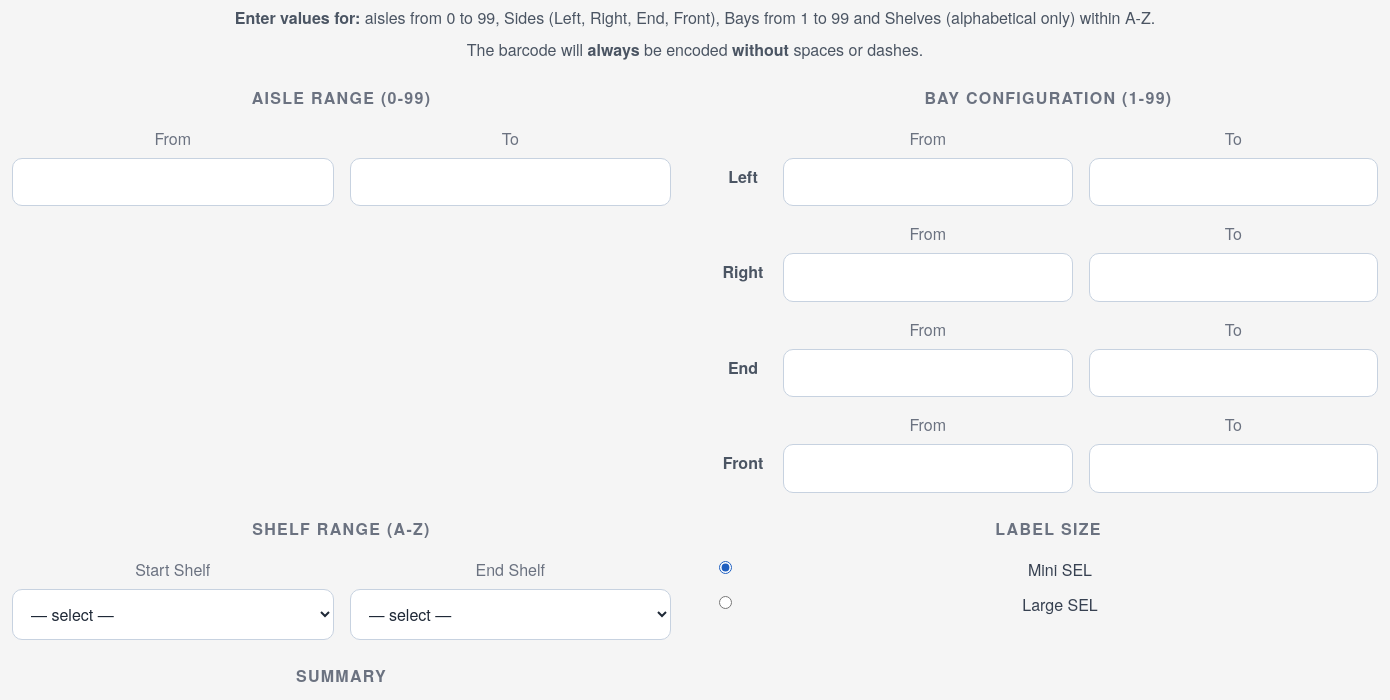
Test: AisleLabelForm › shows select a shelf error when shelf is not selected
The width and height of the screenshot is (1390, 700).
Step 1. Type "1" into the field labelled "From" below "Aisle Range (0-99)" → (173, 182), box left=12, top=158, right=334, bottom=206
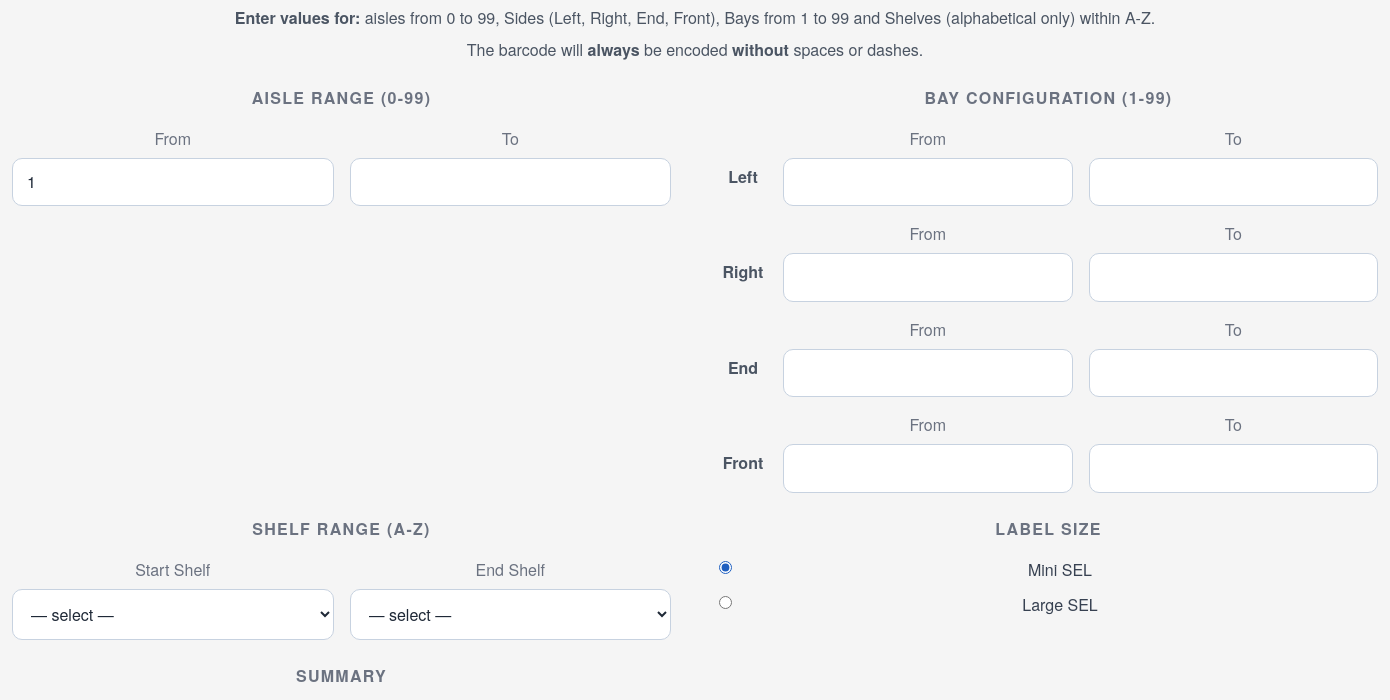
Step 2. Type "1" into the field labelled "To" below "Aisle Range (0-99)" → (510, 182), box left=350, top=158, right=671, bottom=206
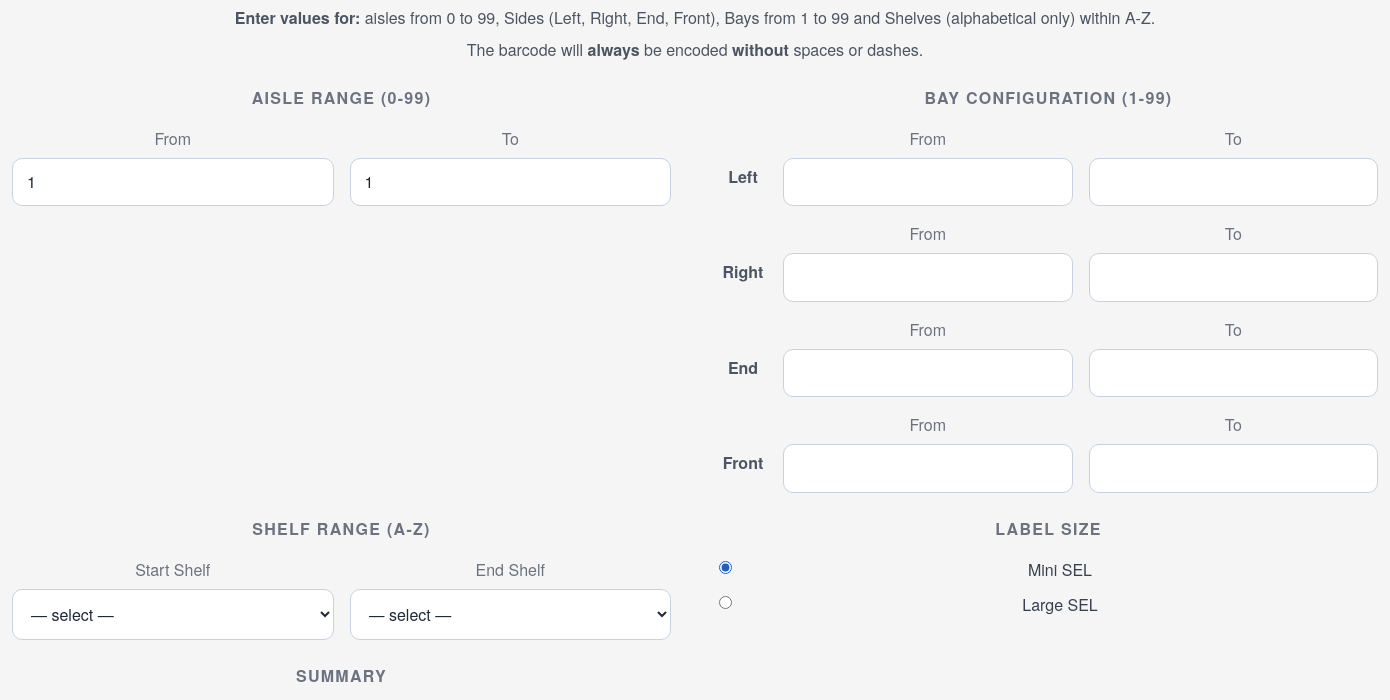
Step 3. Type "1" into the 2nd field labelled "From" → (928, 182), box left=783, top=158, right=1072, bottom=206
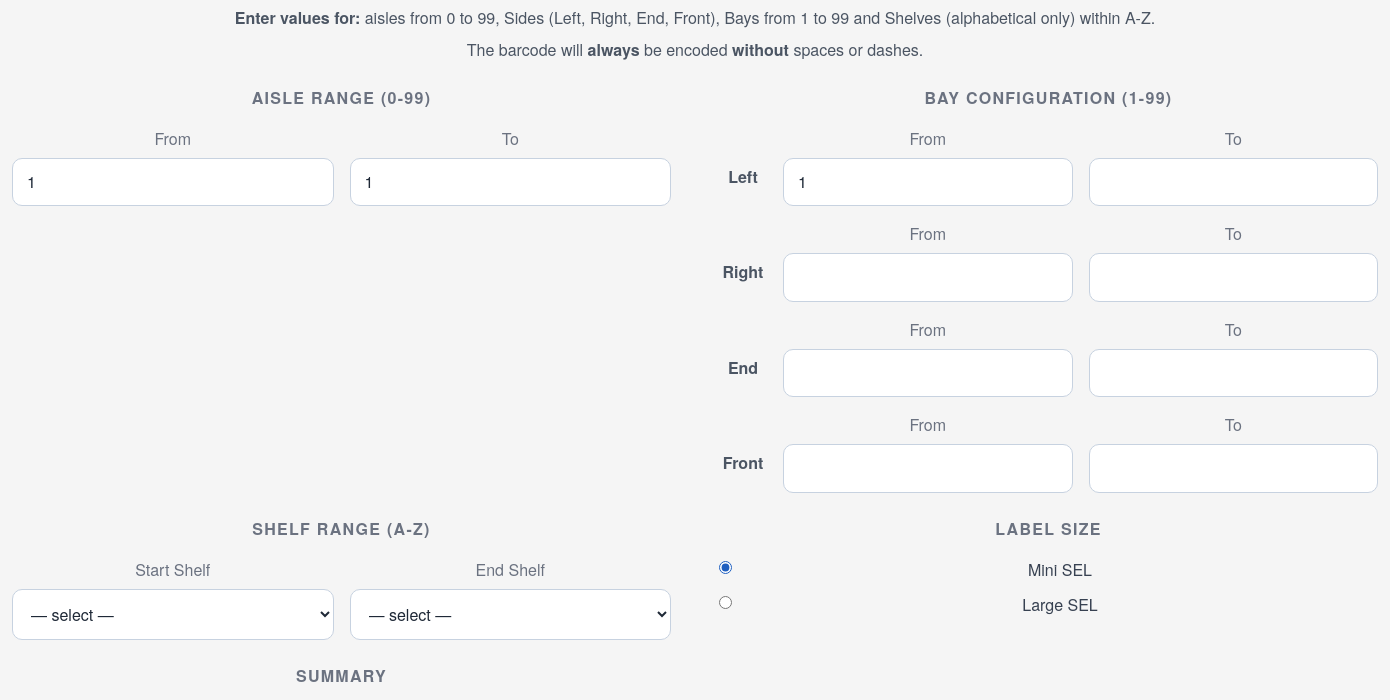
Step 4. Type "2" into the 2nd field labelled "To" → (1233, 182), box left=1088, top=158, right=1378, bottom=206
(page scrolled)
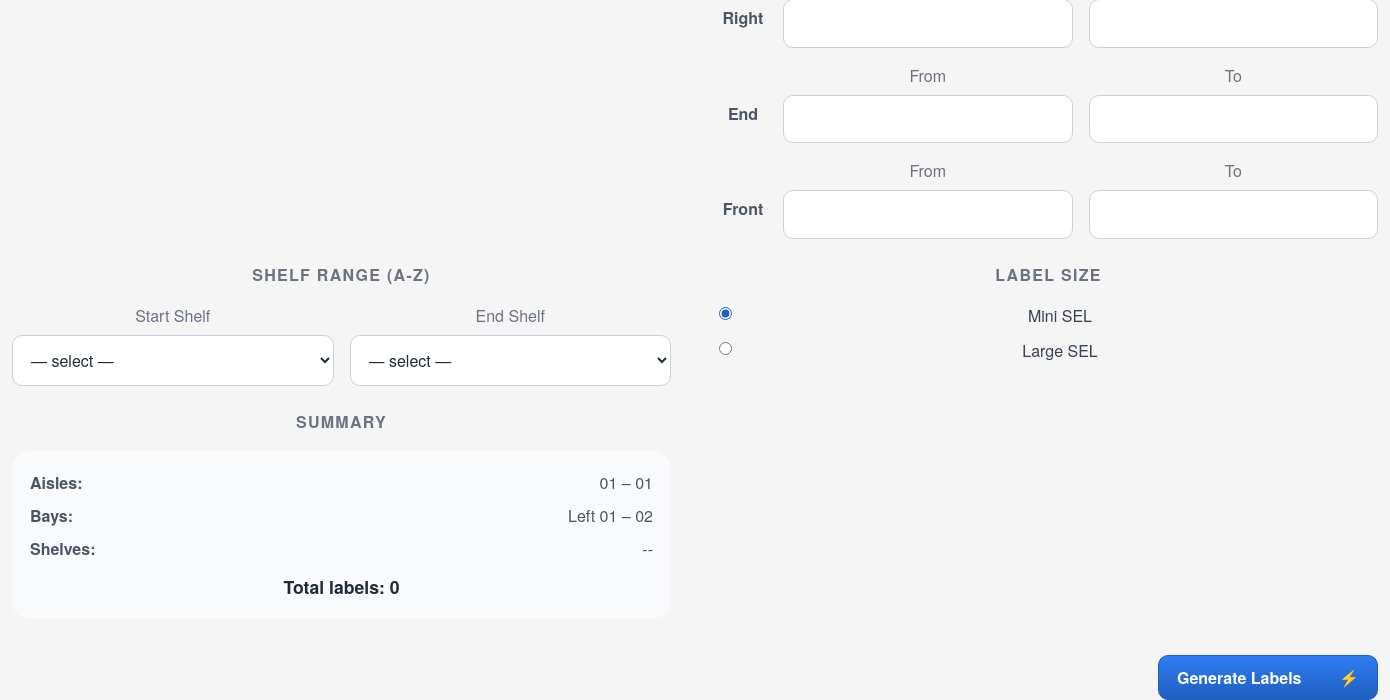
Step 5. Click the button "Generate Labels ⚡" → (1268, 678), box left=1158, top=655, right=1378, bottom=699
(page scrolled)
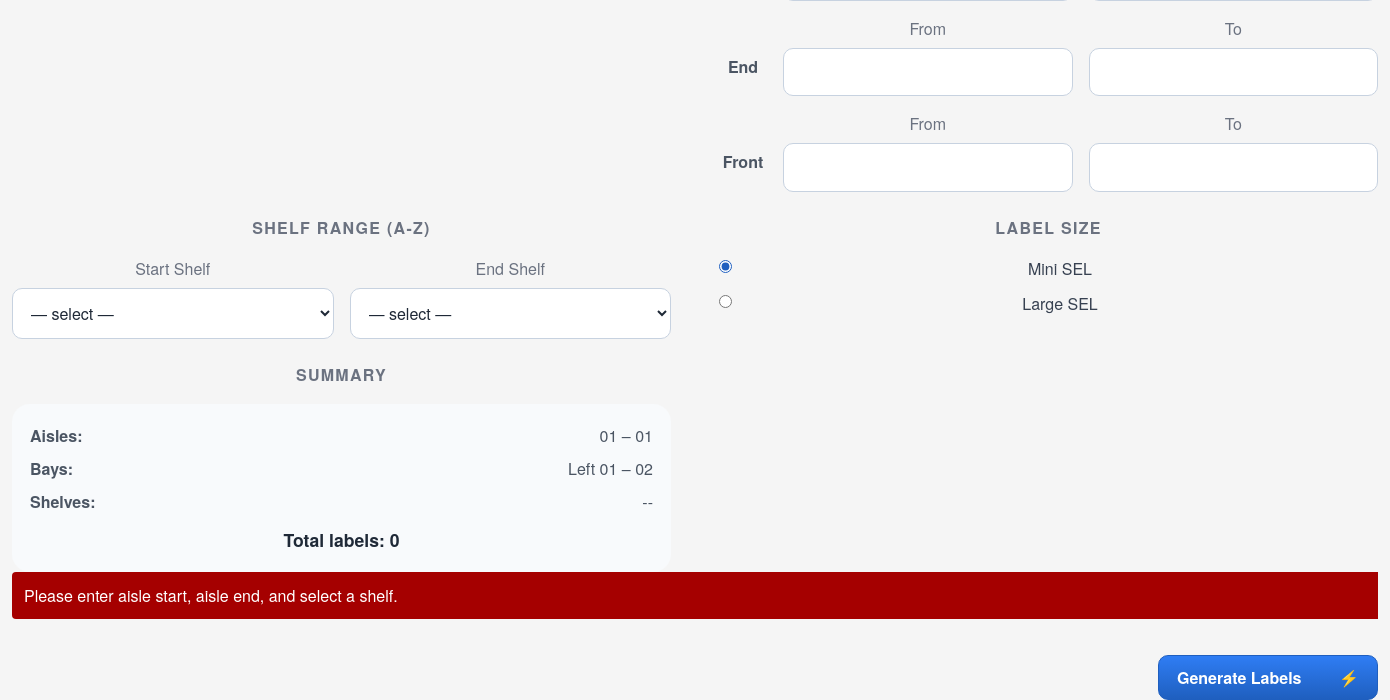
expect the message shows "select a shelf": met, box left=24, top=584, right=398, bottom=607
